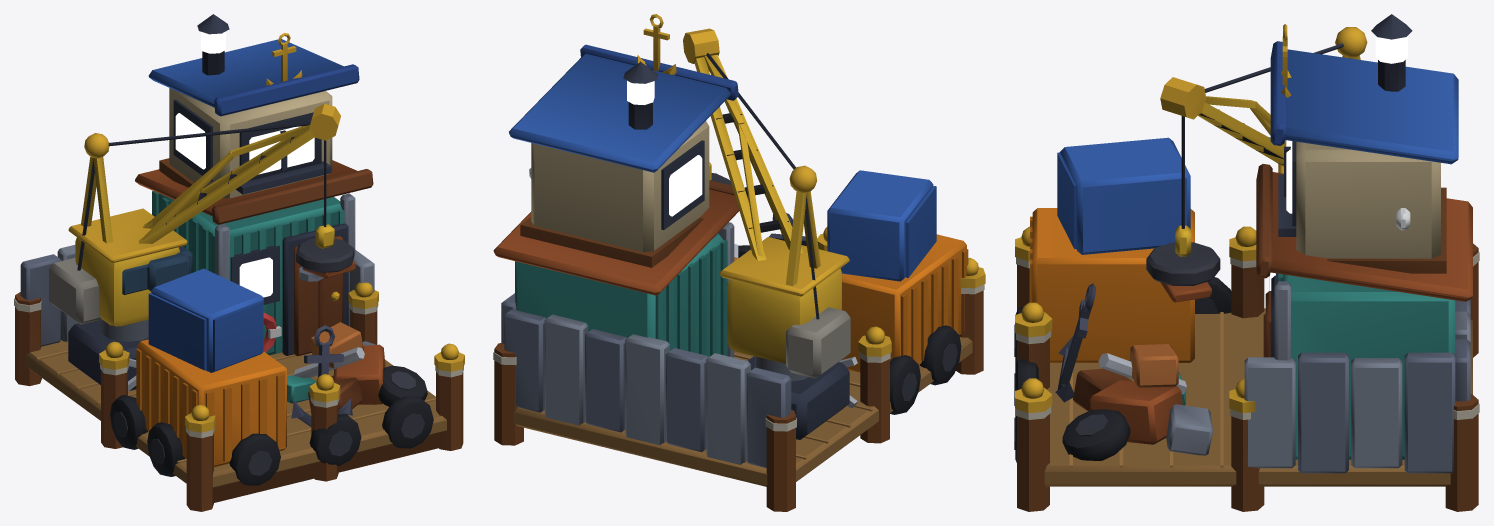
Rendered from o_special_kueste.glb.
The picture shows the model from 3 angles, left to right: view 1: azimuth 30°, elevation 25°; view 2: azimuth 150°, elevation 25°; view 3: azimuth 270°, elevation 25°; orthographic projection. The views are drawn at different scales.
Parts seen in each view (by area): view 1: body, lv2_annex, lv3_upper, lv4_armor, lv5_gold, lv3_win_glow, sway_hook, win_glow; view 2: body, lv3_upper, lv4_armor, lv2_annex, lv5_gold, lv3_win_glow; view 3: body, lv3_upper, lv2_annex, lv4_armor, lv5_gold, sway_hook, lv3_win_glow.
Boxes of the visible parts, box(x1,y1,x2,y2) form: body: box(14, 122, 463, 511); lv2_annex: box(136, 268, 286, 467); lv3_upper: box(148, 14, 359, 198); lv4_armor: box(20, 193, 433, 485); lv5_gold: box(68, 33, 464, 432); lv3_win_glow: box(175, 31, 314, 174); sway_hook: box(296, 140, 355, 281); win_glow: box(239, 257, 272, 297); body: box(493, 53, 984, 511); lv3_upper: box(509, 44, 738, 267); lv4_armor: box(501, 222, 961, 467); lv2_annex: box(827, 170, 968, 372); lv5_gold: box(636, 14, 985, 356); lv3_win_glow: box(627, 80, 702, 216); body: box(1016, 43, 1479, 511); lv3_upper: box(1270, 14, 1458, 273); lv2_annex: box(1030, 137, 1194, 362); lv4_armor: box(1014, 276, 1470, 473); lv5_gold: box(1015, 24, 1367, 413); sway_hook: box(1146, 116, 1220, 302); lv3_win_glow: box(1286, 36, 1407, 213).
Bounding box in the file's own units: 3.45 × 4.21 × 4.02.
